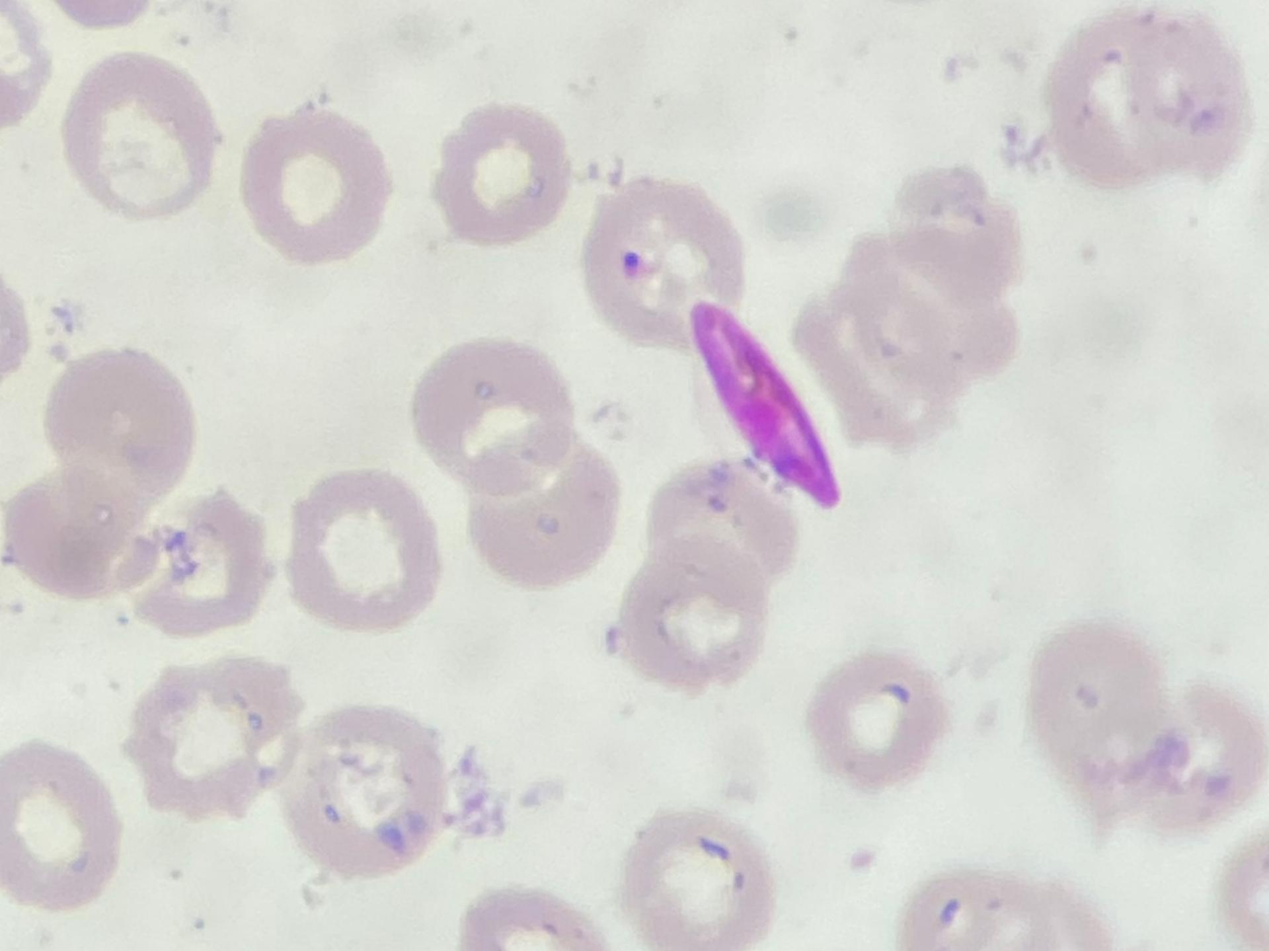Infected: (686, 299, 837, 509)
Uninfected: (117, 650, 304, 825), (278, 706, 447, 876), (413, 336, 576, 500), (585, 182, 738, 352), (1044, 10, 1186, 193), (289, 468, 442, 632), (63, 53, 215, 218), (241, 103, 386, 262), (121, 488, 271, 636), (623, 805, 772, 951), (615, 542, 767, 683), (468, 450, 623, 588), (43, 346, 193, 483), (1132, 15, 1253, 184), (7, 468, 164, 598), (0, 741, 120, 909), (431, 104, 570, 246), (649, 456, 798, 584), (815, 650, 946, 792)
